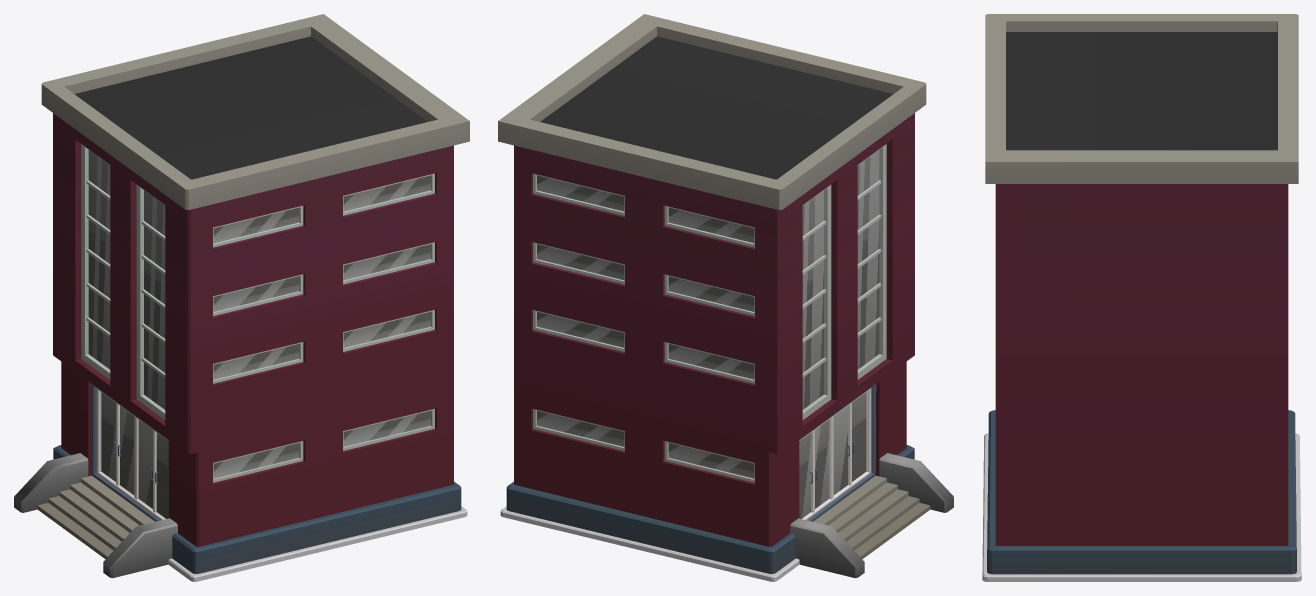
The model's file is Building_26_K.fbx.
The picture shows the model from 3 angles, left to right: view 1: azimuth 30°, elevation 25°; view 2: azimuth 150°, elevation 25°; view 3: azimuth 270°, elevation 25°; orthographic projection. The views are drawn at different scales.
Parts seen in each view (by area): view 1: Building_26_K; view 2: Building_26_K; view 3: Building_26_K.
Part boxes in pixels (<box>): Building_26_K: <box>14,14,469,581</box>; Building_26_K: <box>498,14,953,581</box>; Building_26_K: <box>982,14,1301,581</box>.
Size of the model in its own units: 923 by 1037 by 712.
